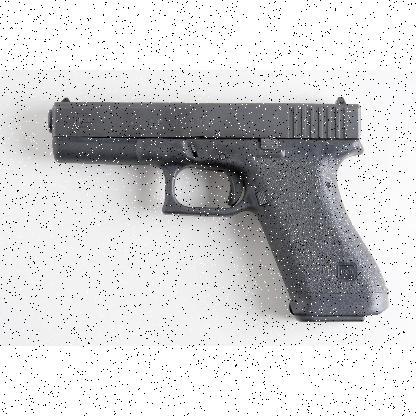gun: (48, 96, 388, 320)
